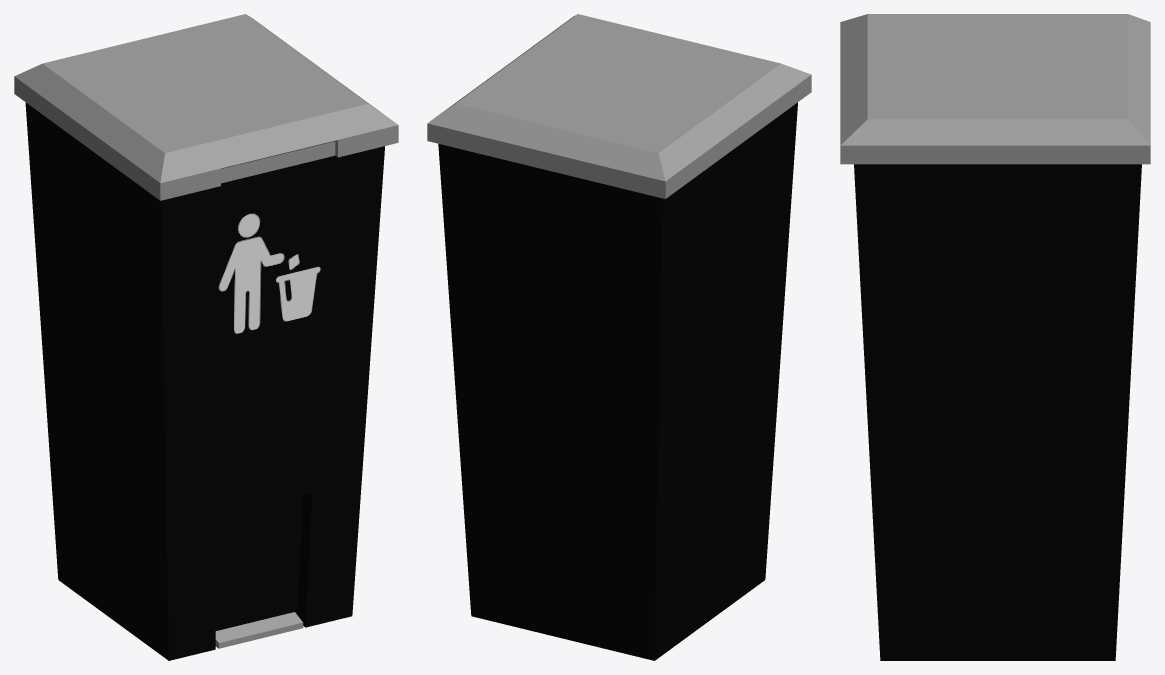
The model's file is TrashCanBlack.fbx.
The picture shows the model from 3 angles, left to right: view 1: azimuth 30°, elevation 25°; view 2: azimuth 150°, elevation 25°; view 3: azimuth 270°, elevation 25°; orthographic projection. The views are drawn at different scales.
Visible parts, largest first — view 1: Cube, Cube.001, Cube.002; view 2: Cube, Cube.001; view 3: Cube, Cube.001.
Part boxes in pixels (x1,y1,x2,y2): Cube: (25,102,384,660); Cube.001: (14,14,398,200); Cube.002: (215,612,303,648); Cube: (438,102,797,660); Cube.001: (427,14,811,198); Cube: (854,164,1141,660); Cube.001: (840,14,1150,164).
Size of the model in its own units: 45.24 by 93.38 by 48.06.
2 materials, 1 textured.
